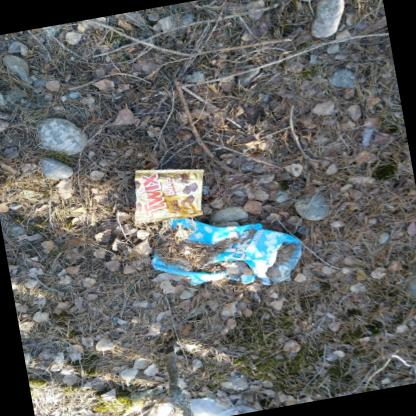Plastic: (149, 217, 301, 284), (133, 168, 202, 223)
